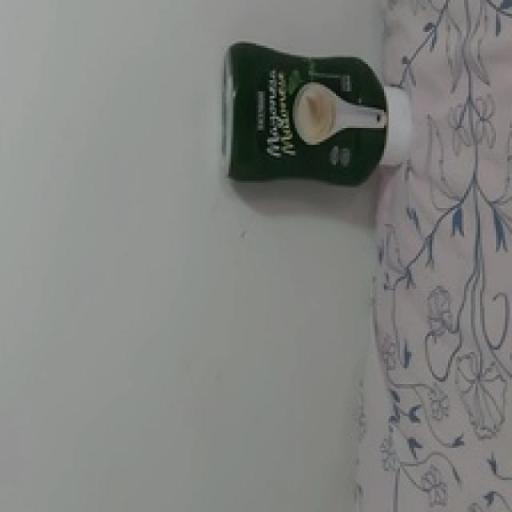plastic: (224, 43, 414, 190)
